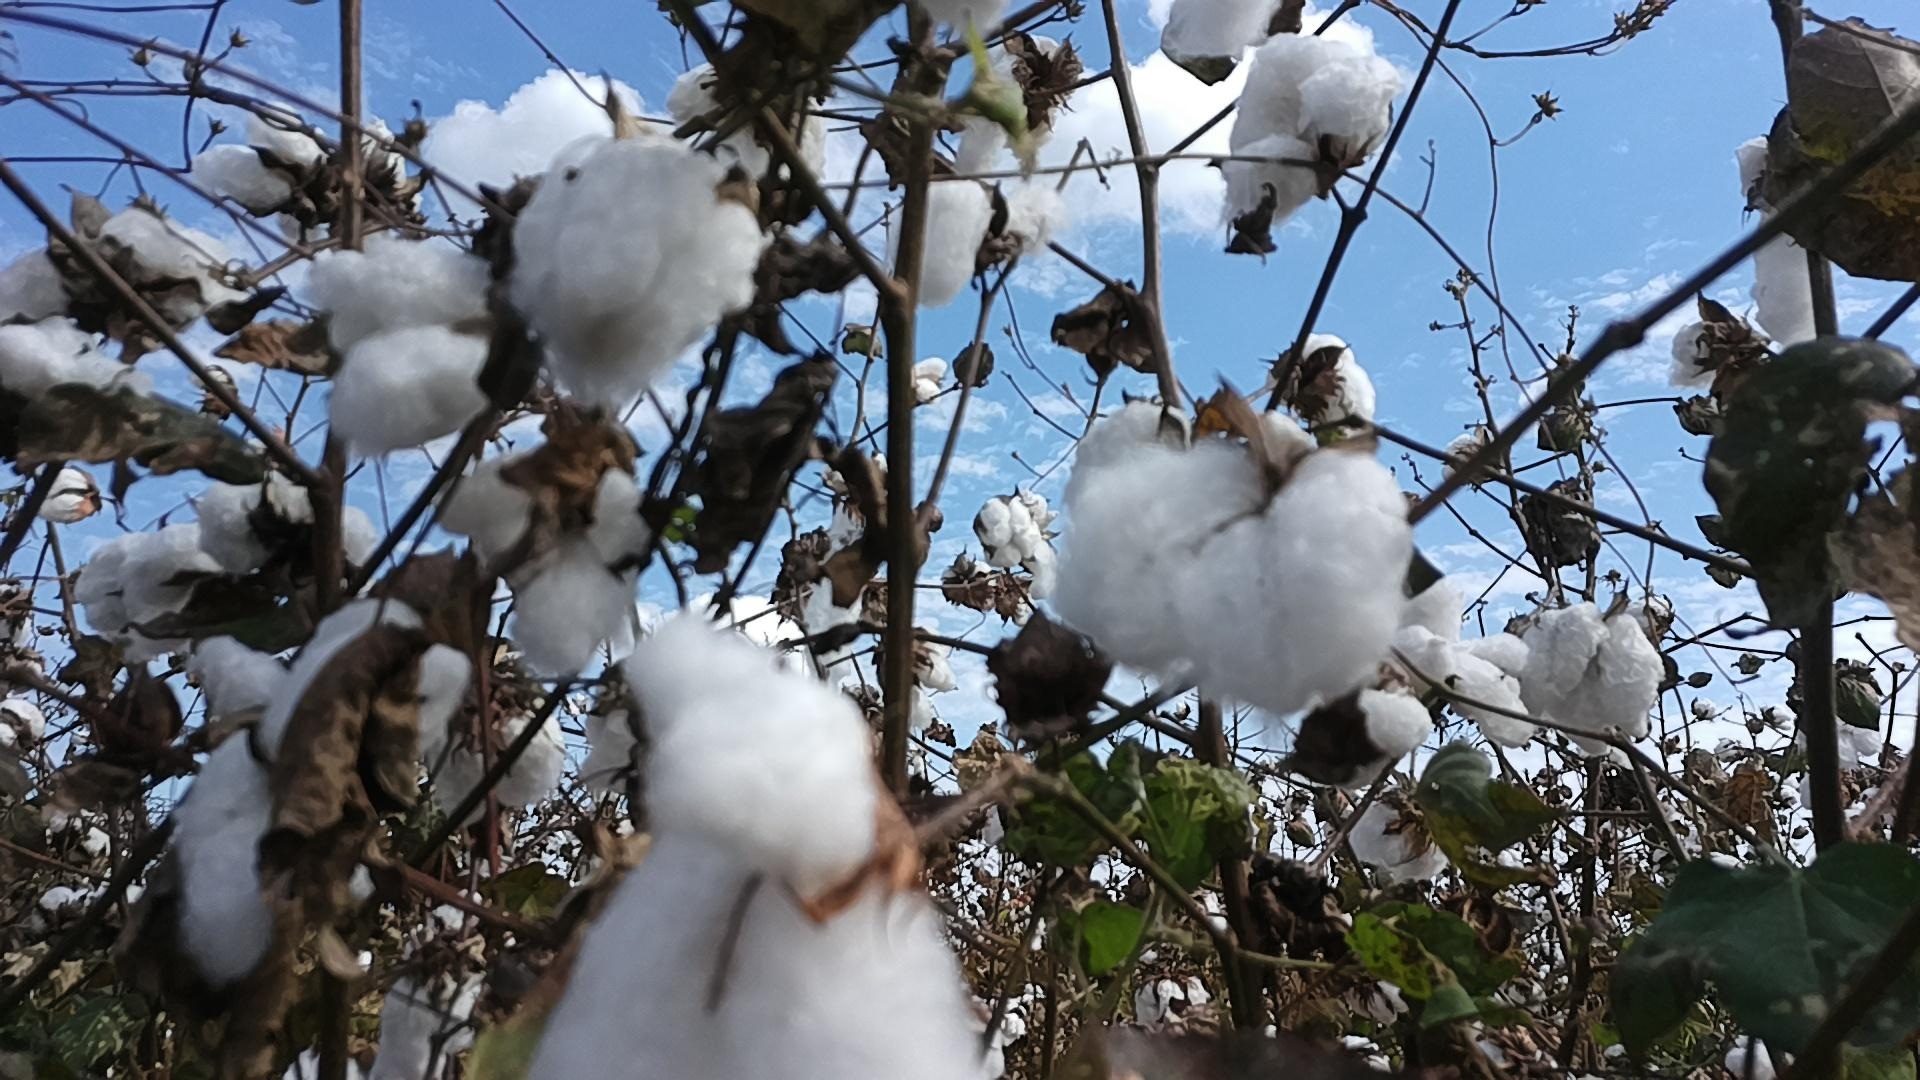cotton_ready: (522, 611, 990, 1080), (175, 593, 471, 982), (1044, 435, 1411, 715), (512, 138, 766, 415), (0, 211, 252, 455), (438, 463, 669, 675), (576, 596, 818, 791), (303, 231, 498, 455), (1224, 29, 1408, 220), (891, 113, 1068, 299), (198, 95, 419, 237), (1358, 578, 1534, 753), (78, 527, 237, 661), (1523, 605, 1668, 750), (429, 661, 560, 820), (194, 476, 388, 583), (1735, 128, 1821, 355), (671, 67, 828, 190), (1358, 786, 1458, 893), (1292, 334, 1383, 430), (1158, 0, 1286, 61), (1668, 316, 1739, 393), (976, 495, 1042, 568)
